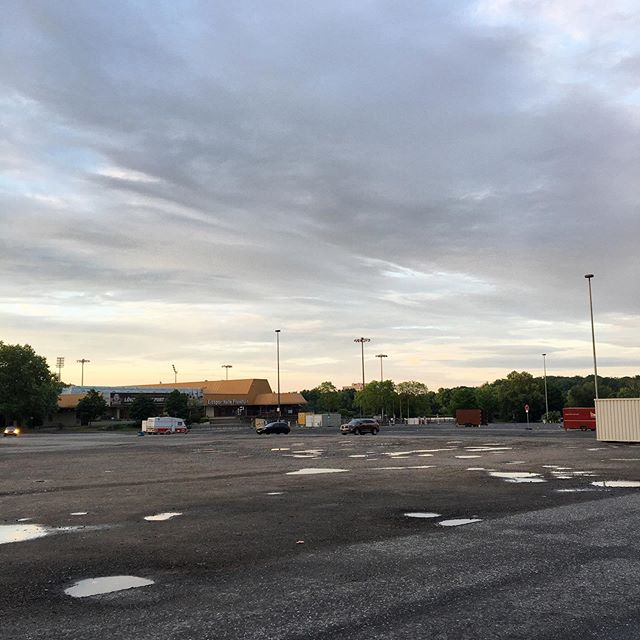building: (116, 372, 298, 417)
car: (256, 416, 293, 441), (342, 416, 384, 438)
sky: (18, 1, 640, 338)
street: (1, 432, 626, 640)
vegetation: (308, 372, 631, 417)
